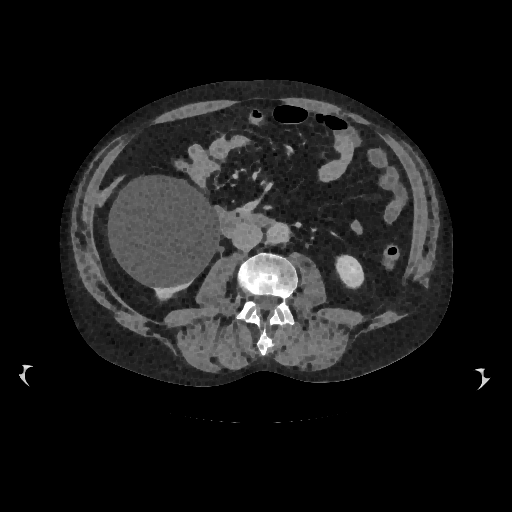Lesion: (104, 177, 218, 289)
